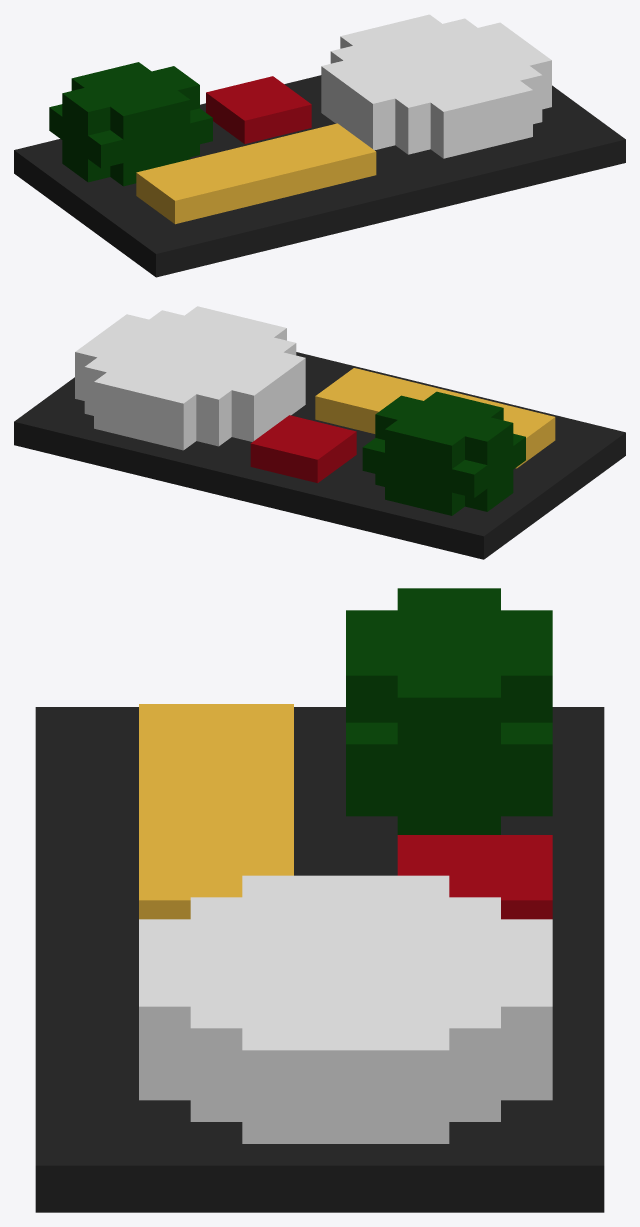
File: Food.fbx
3 renders of one model, top to bottom at view 1: azimuth 30°, elevation 25°; view 2: azimuth 150°, elevation 25°; view 3: azimuth 270°, elevation 25°, orthographic. The views are drawn at different scales.
Visible parts, largest first — view 1: Matrix; view 2: Matrix; view 3: Matrix.
Part boxes in pixels (x1,y1,x2,y2): Matrix: (14, 14, 625, 277); Matrix: (14, 306, 625, 559); Matrix: (35, 588, 604, 1212).
Bounding box in the file's own units: 21 × 4 × 11.
1 material, 1 textured.
